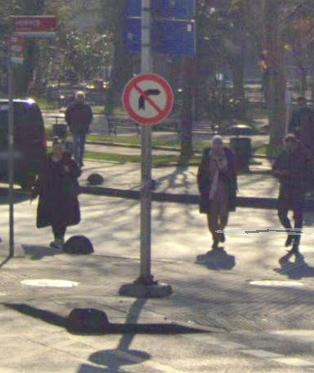rightturnsareforbidden: (126, 76, 172, 121)
